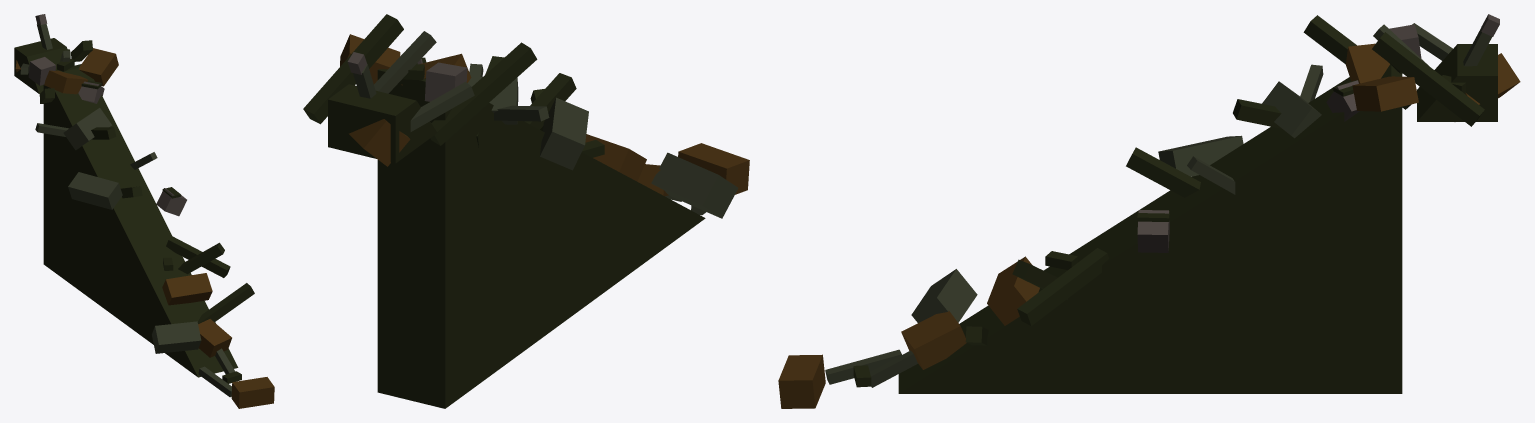
Rendered from SM_PilaZombi_Altura5_s0_LOD0.fbx.
3 renders of one model, left to right at view 1: azimuth 30°, elevation 25°; view 2: azimuth 150°, elevation 25°; view 3: azimuth 270°, elevation 25°, orthographic. The views are drawn at different scales.
Visible parts, largest first — view 1: SM_pila_zombis_v4_LOD0; view 2: SM_pila_zombis_v4_LOD0; view 3: SM_pila_zombis_v4_LOD0.
Part boxes in pixels (left/top/right/bottom): SM_pila_zombis_v4_LOD0: left=14, top=14, right=274, bottom=408; SM_pila_zombis_v4_LOD0: left=303, top=14, right=749, bottom=408; SM_pila_zombis_v4_LOD0: left=778, top=14, right=1520, bottom=408.
Size of the model in its own units: 1.45 by 2.89 by 5.12.
